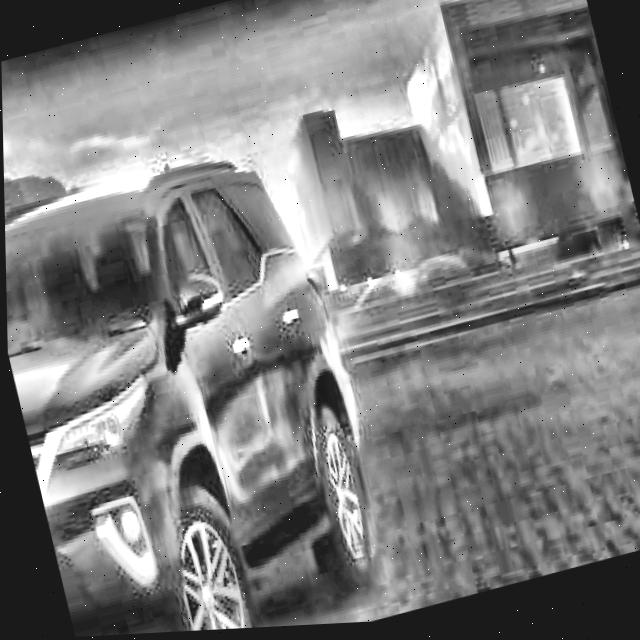light_vehicle: (3, 128, 404, 640)
